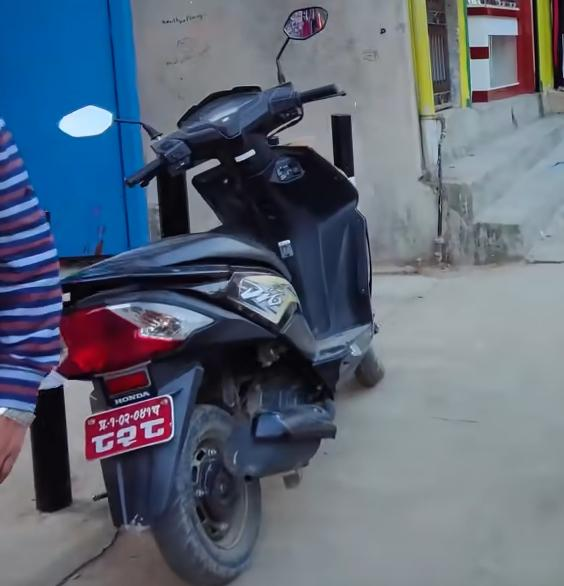scooter: (44, 3, 388, 586)
